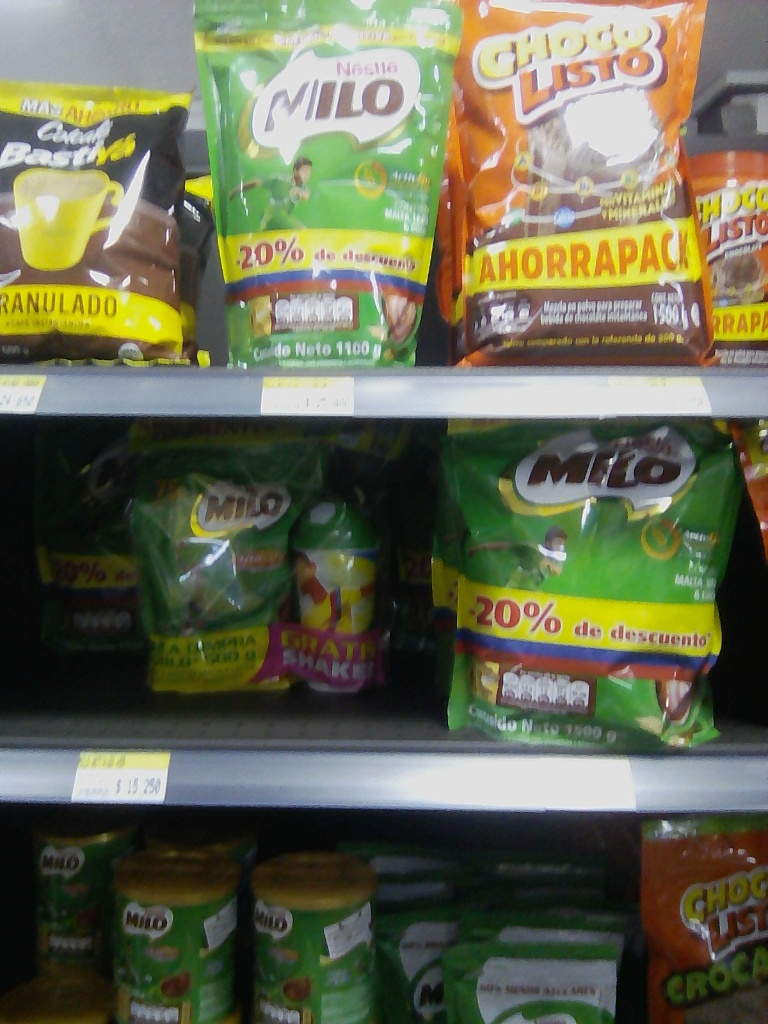COL0170203LAT40000: (105, 873, 226, 1024)
